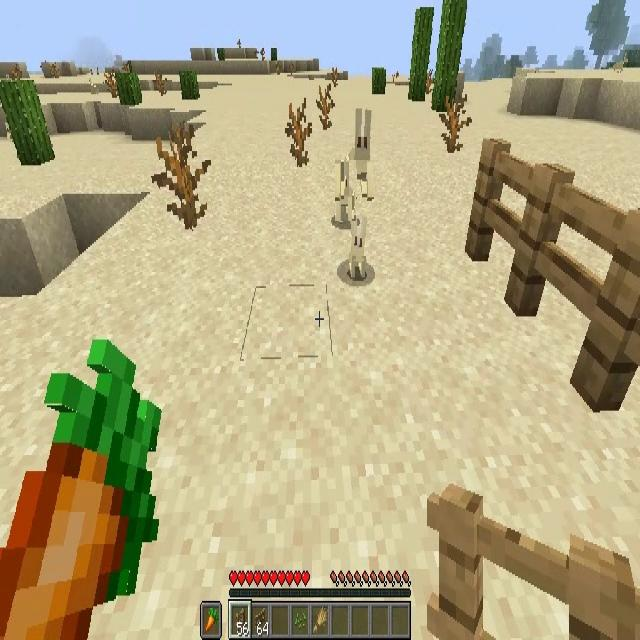rabbit: (345, 112, 373, 199), (335, 160, 356, 221), (348, 216, 366, 278)
